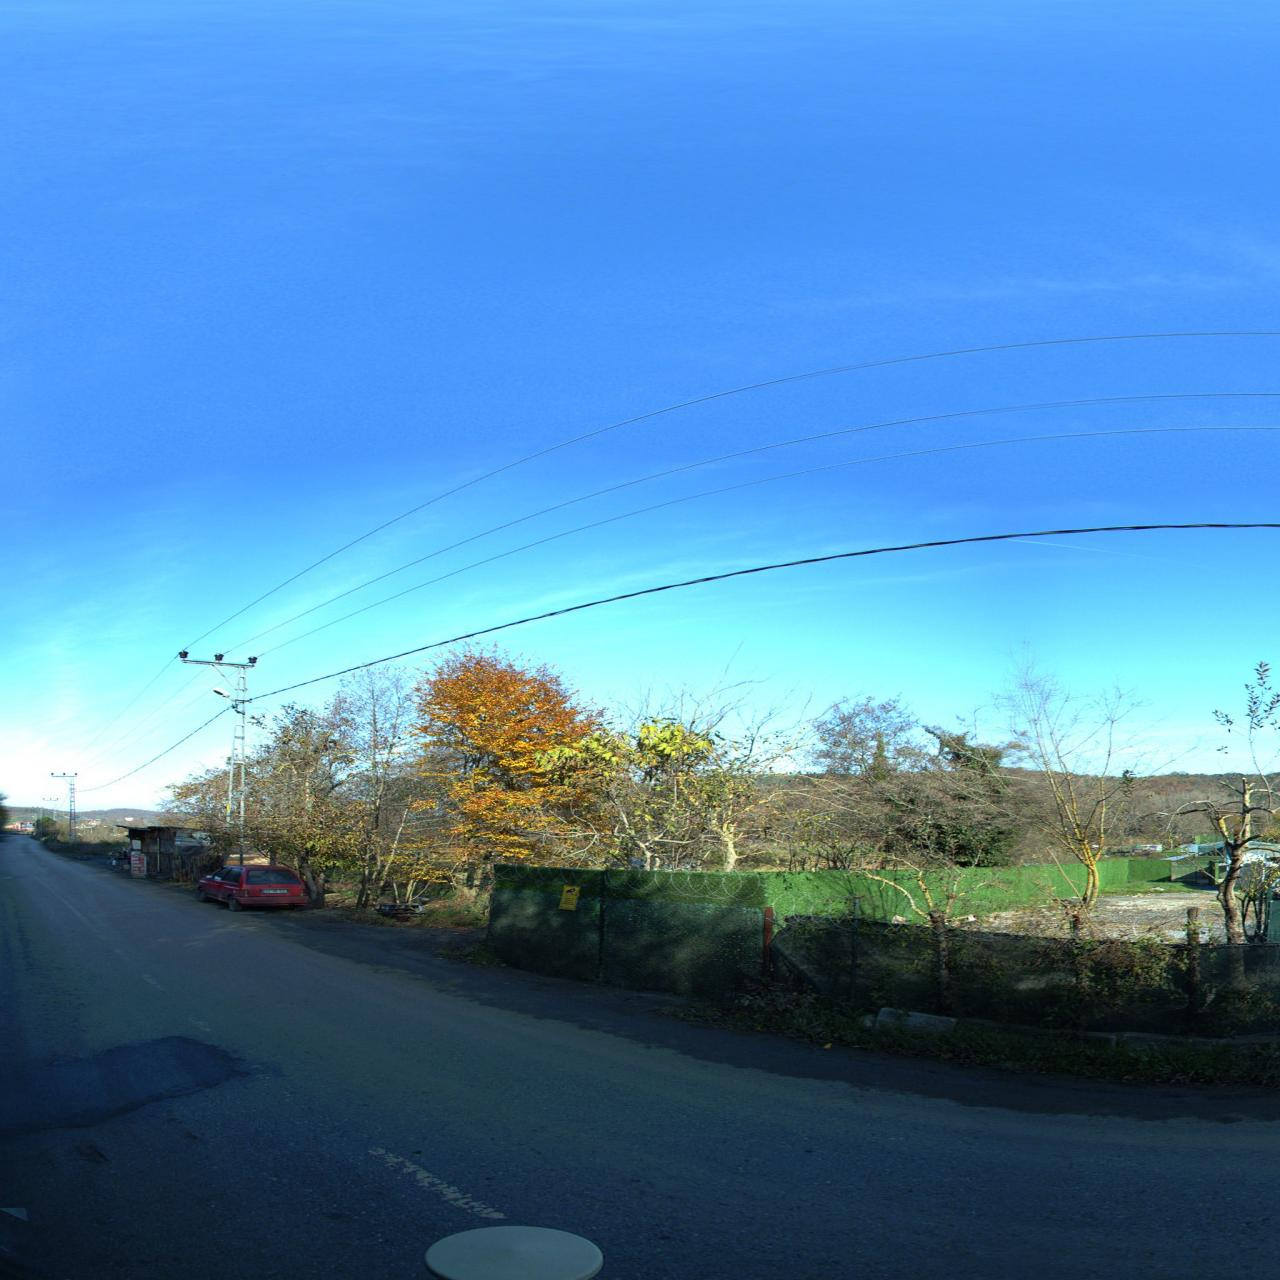Utility Pole Information Plate: (226, 804, 230, 810)
